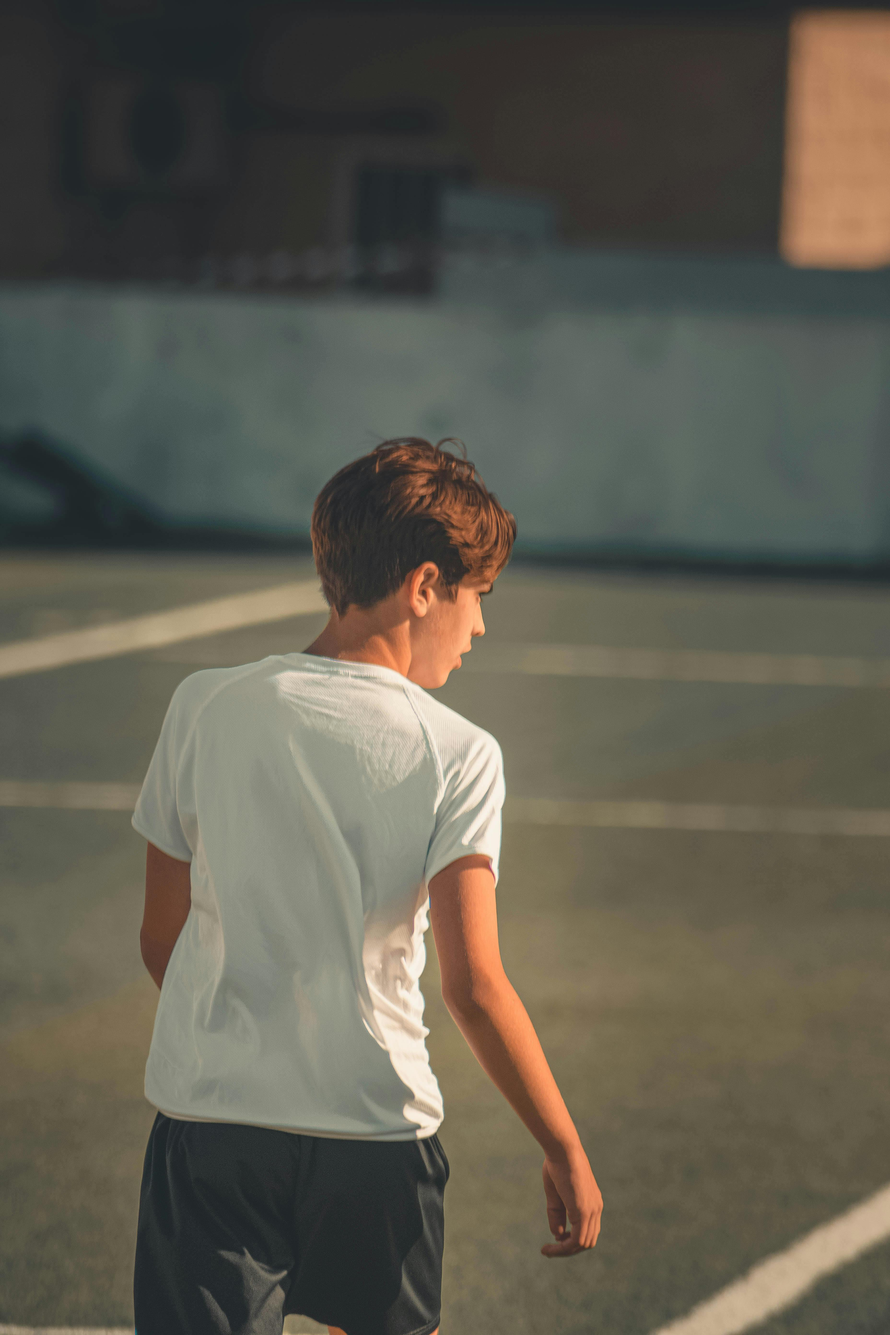Human: (56, 375, 569, 1335)
